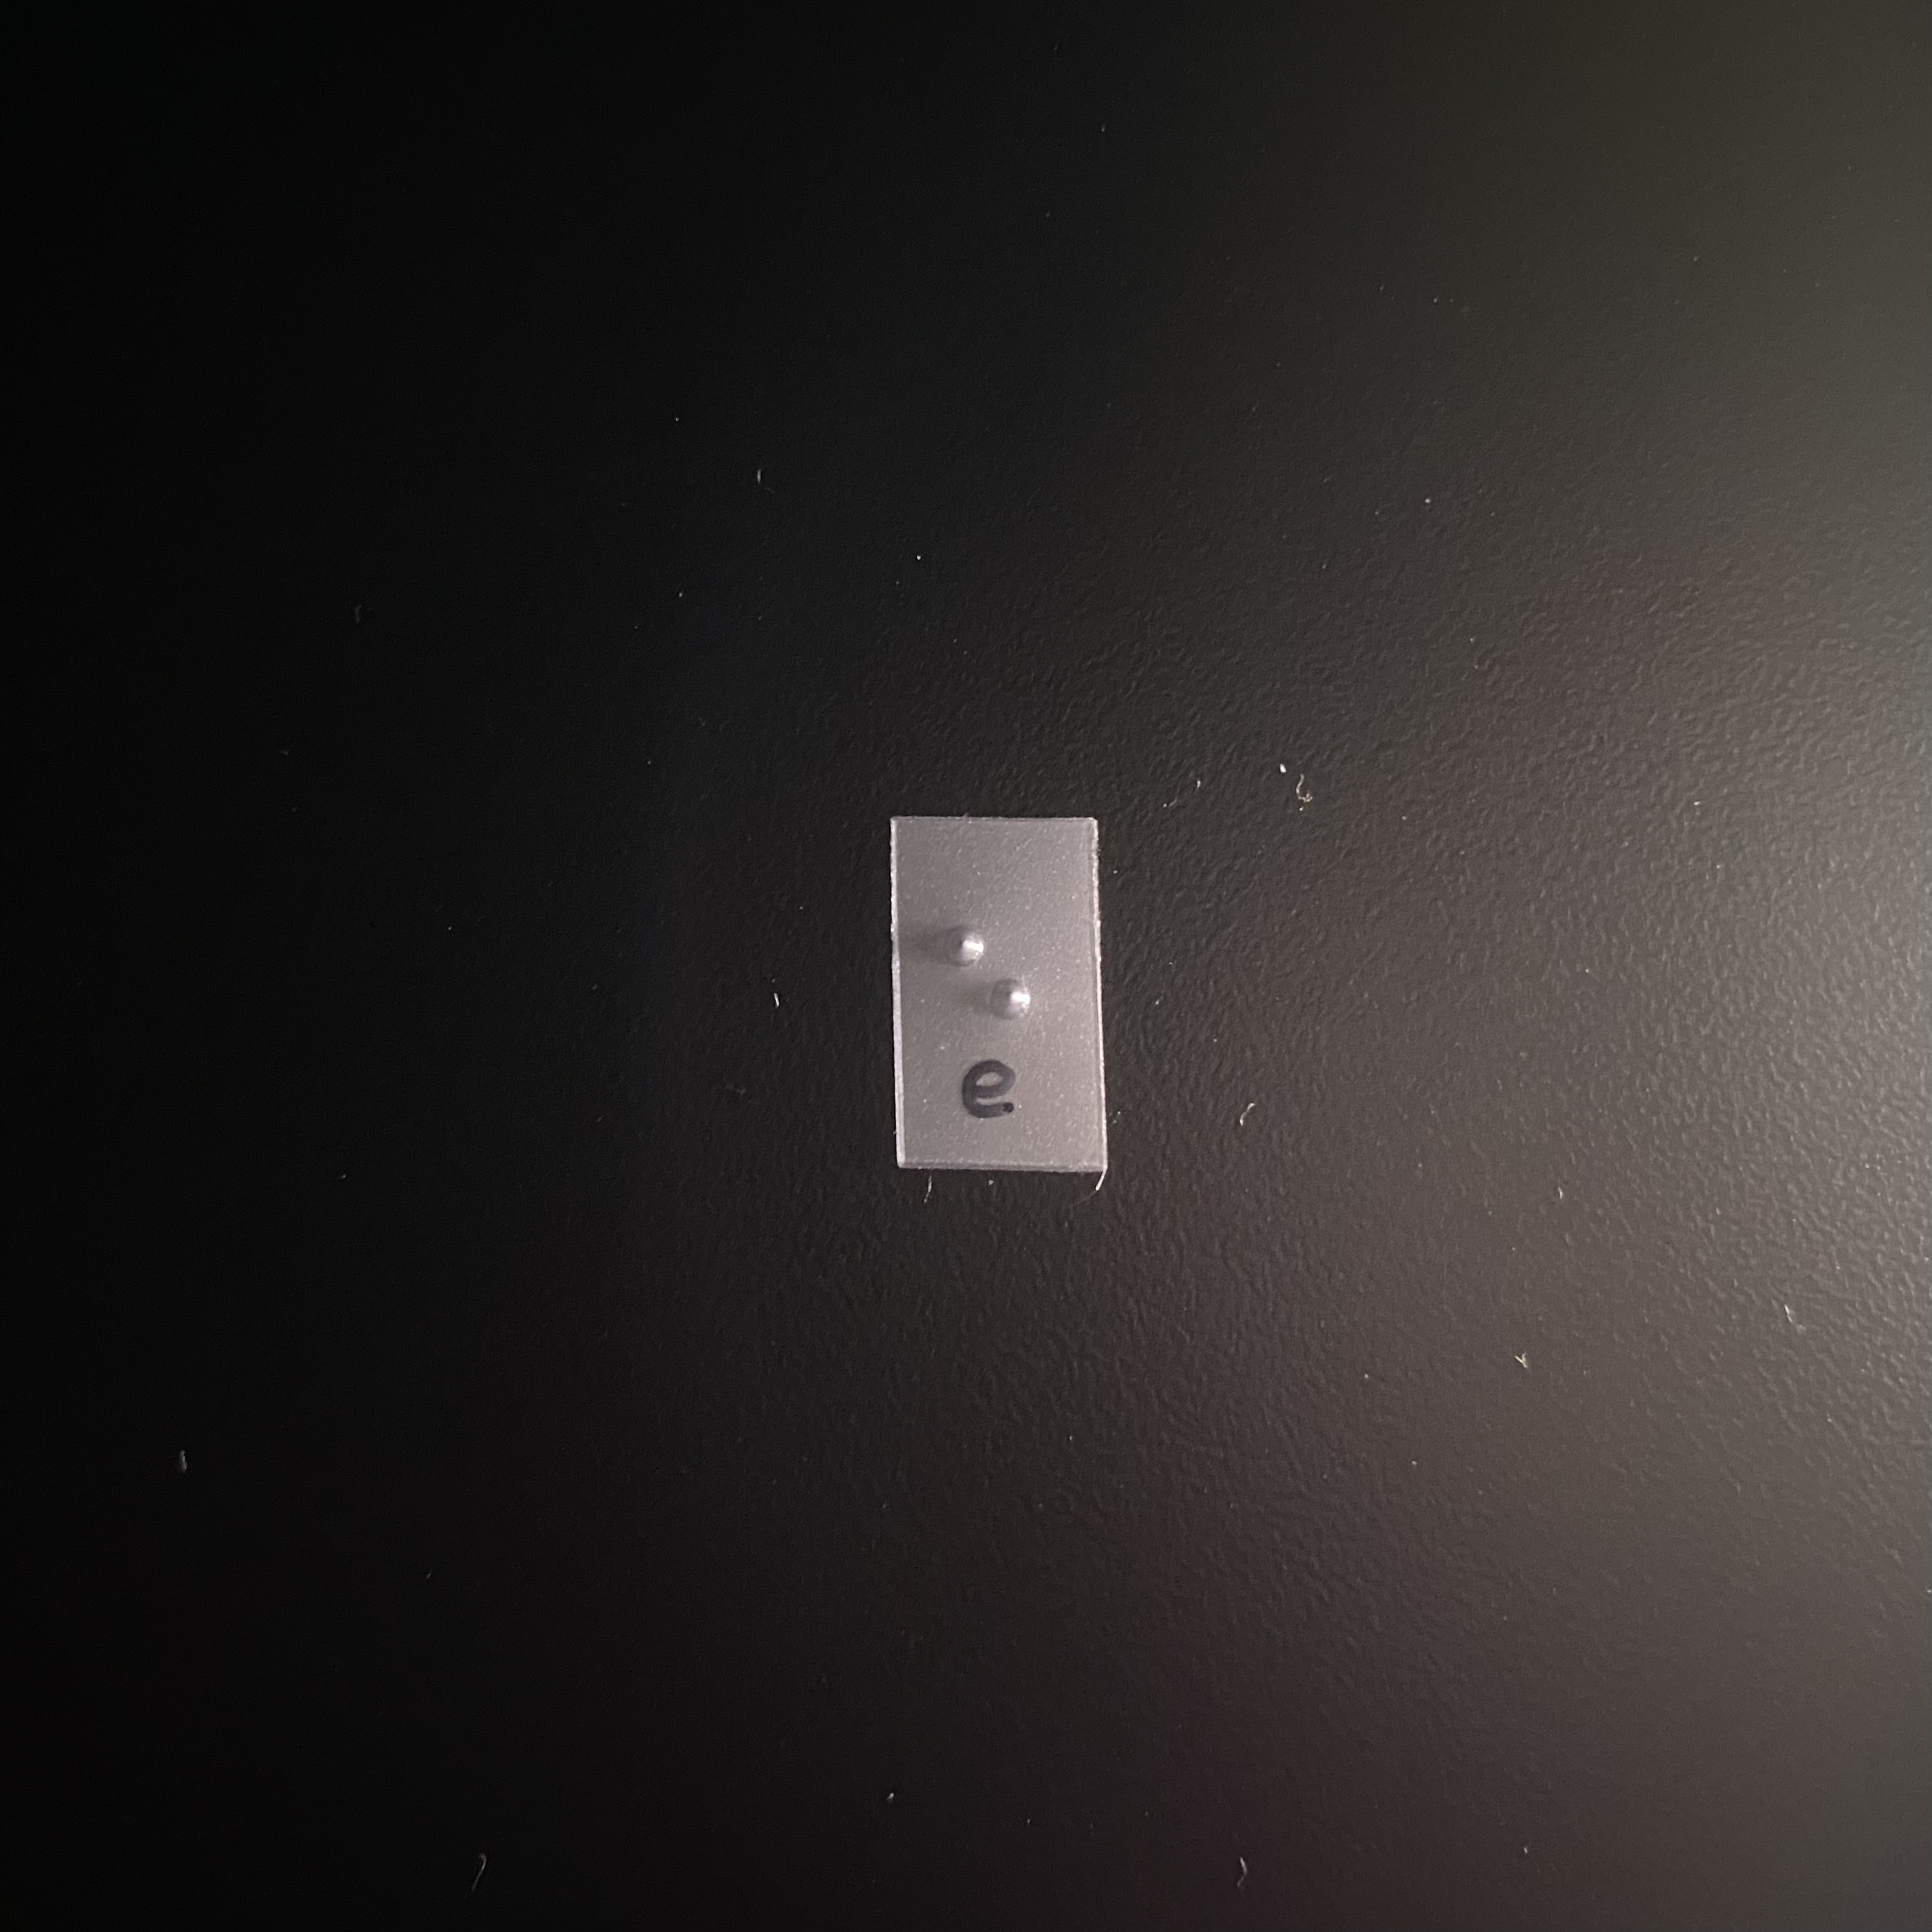e: (922, 909, 1049, 1106)
